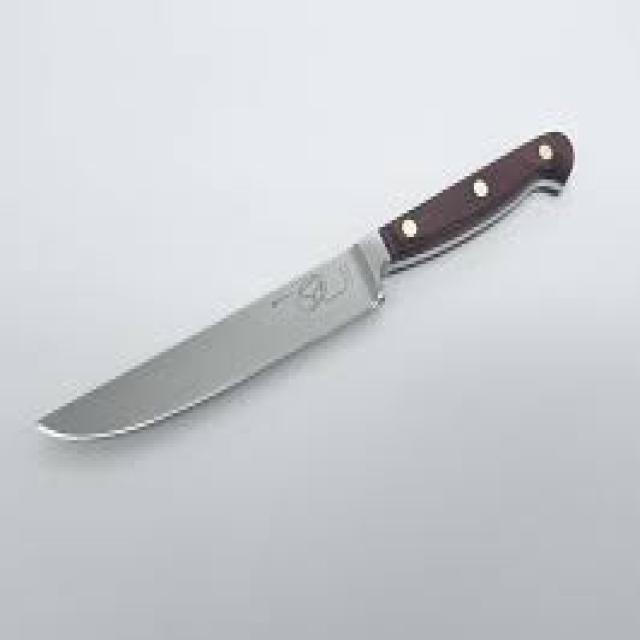knife: (35, 130, 574, 441)
